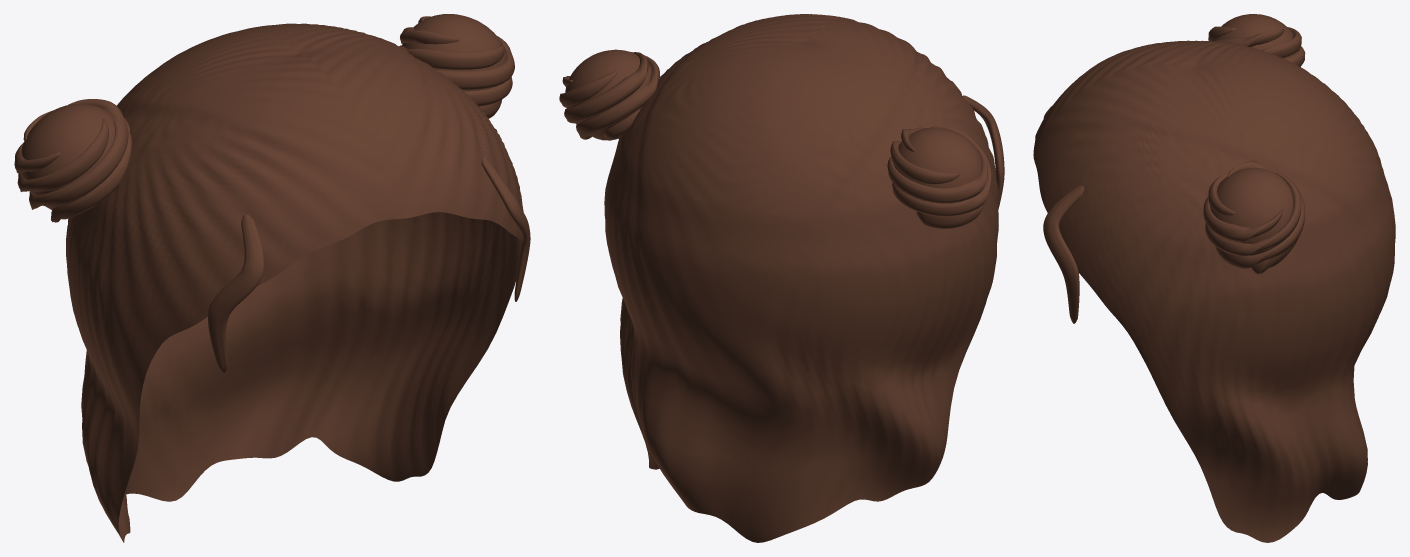
File: space-buns-headband.glb
The picture shows the model from 3 angles, left to right: view 1: azimuth 30°, elevation 25°; view 2: azimuth 150°, elevation 25°; view 3: azimuth 270°, elevation 25°; orthographic projection. The views are drawn at different scales.
Parts seen in each view (by area): view 1: 226 hair / Hair / chestnut226; view 2: 226 hair / Hair / chestnut226; view 3: 226 hair / Hair / chestnut226.
Part boxes in pixels (box(x1,y1,x2,y2)): 226 hair / Hair / chestnut226: box(14, 14, 530, 542); 226 hair / Hair / chestnut226: box(559, 14, 1004, 542); 226 hair / Hair / chestnut226: box(1033, 14, 1395, 542).
Bounding box in the file's own units: 0.977 × 0.9707 × 0.7316.
